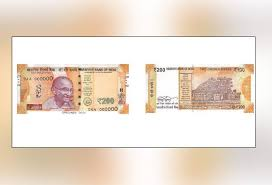twoHundred: (21, 70, 121, 108)
